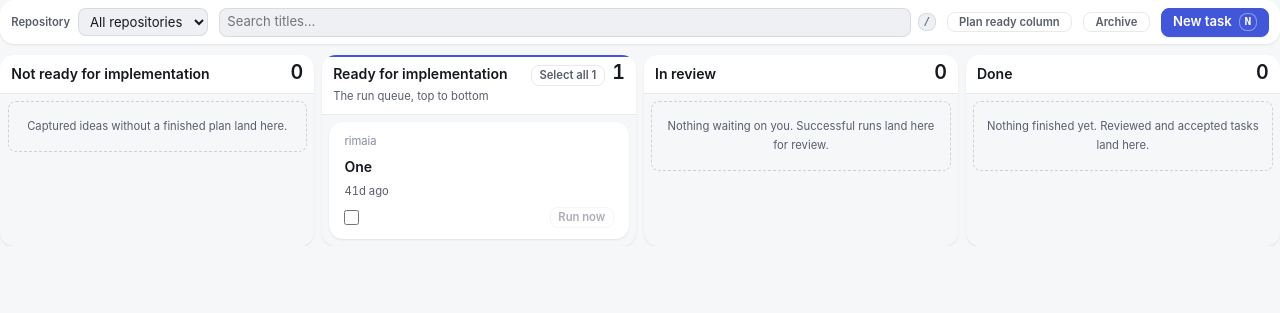
Test: Board › shift-clicking a card with nothing picked takes just that card
The width and height of the screenshot is (1280, 313).
Click the button "rimaia One 41d ago Run now" at coordinates (361, 141), box [329, 122, 629, 239]
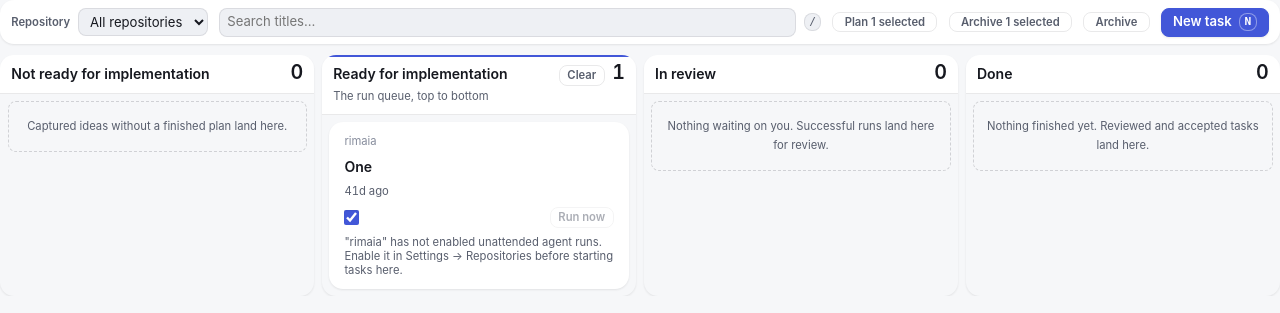
Now the button "Archive 1 selected" is shown, box [949, 12, 1072, 32]
